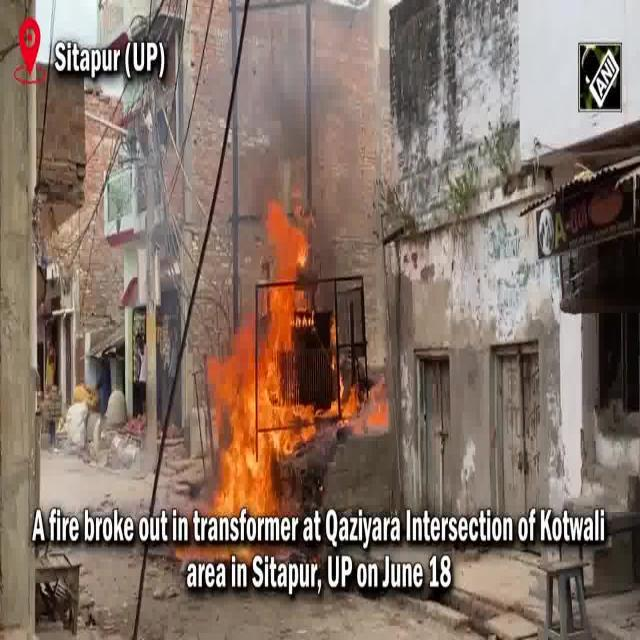Fire: (210, 216, 386, 546)
